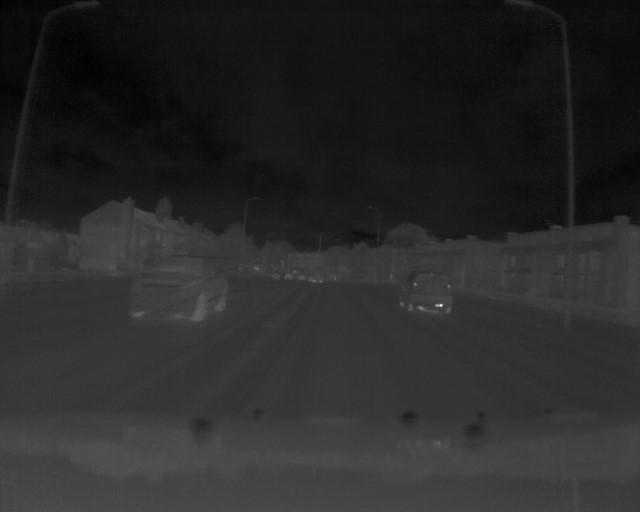car: (125, 256, 237, 327), (399, 262, 455, 315)
